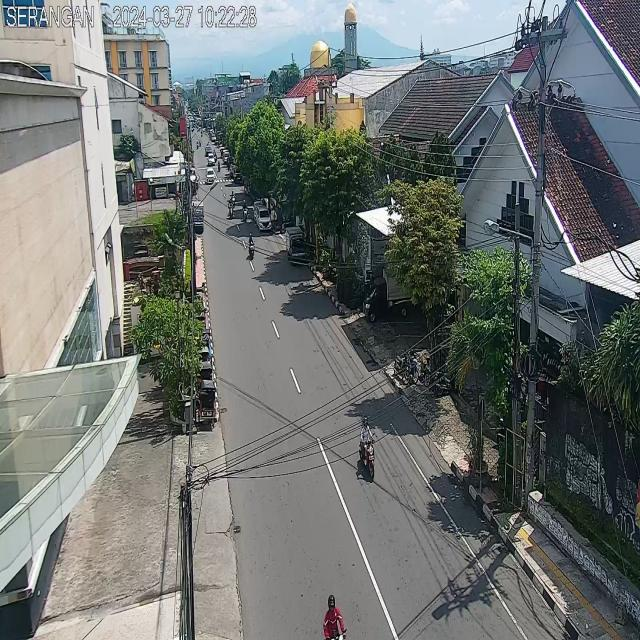car: (258, 206, 272, 232), (252, 200, 264, 222), (206, 168, 215, 184), (208, 154, 215, 165), (205, 147, 212, 156)
motorcycle: (357, 414, 378, 483), (321, 591, 346, 640), (247, 232, 255, 262), (227, 199, 234, 218), (242, 200, 248, 222), (230, 190, 236, 208), (218, 161, 221, 172), (214, 154, 217, 164), (196, 140, 199, 150), (199, 139, 202, 147), (213, 148, 215, 157)
truck: (286, 227, 305, 266)
